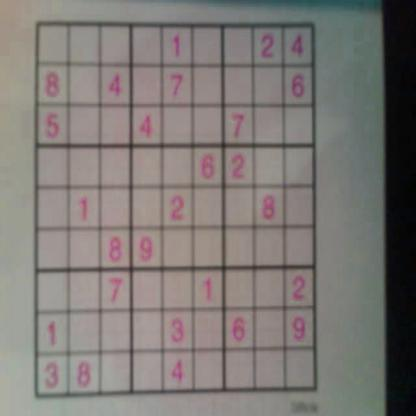sudoku: (31, 15, 322, 403)
